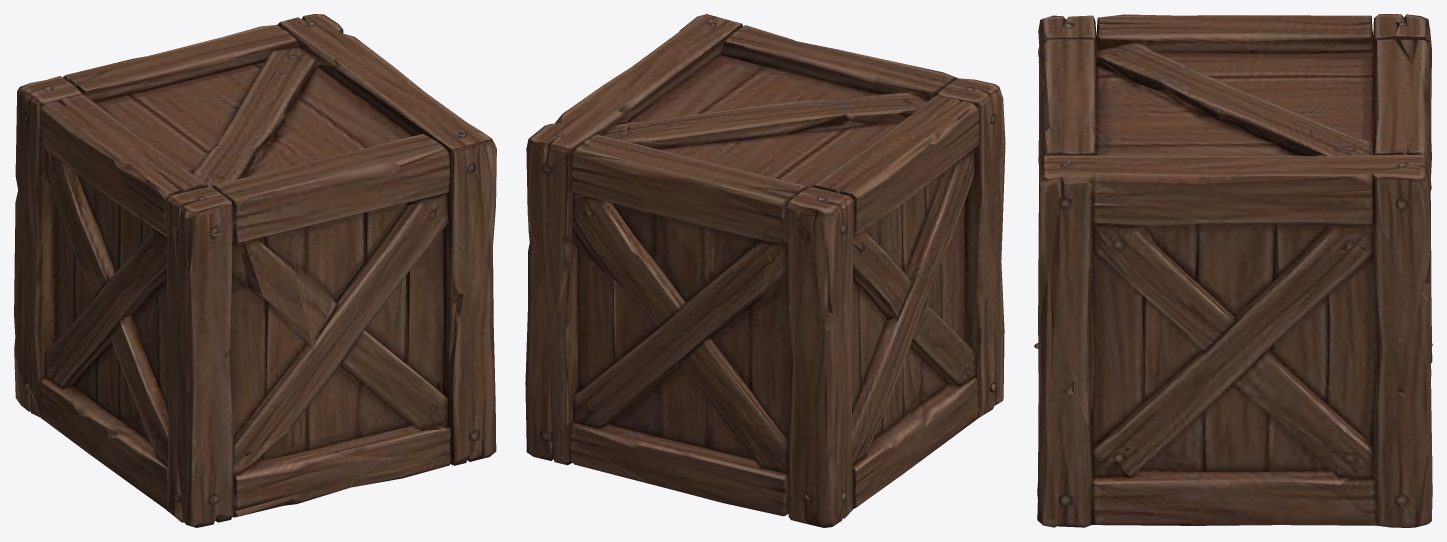
Rendered from crate_3d.glb.
The picture shows the model from 3 angles, left to right: view 1: azimuth 30°, elevation 25°; view 2: azimuth 150°, elevation 25°; view 3: azimuth 270°, elevation 25°; orthographic projection. The views are drawn at different scales.
Visible parts, largest first — view 1: Mesh_0; view 2: Mesh_0; view 3: Mesh_0.
Boxes of the visible parts, left/top/right/bottom form: Mesh_0: left=14, top=14, right=496, bottom=527; Mesh_0: left=525, top=14, right=1005, bottom=527; Mesh_0: left=1034, top=14, right=1432, bottom=527.
Bounding box in the file's own units: 0.7484 × 0.75 × 0.7554.
1 material, 1 textured.
